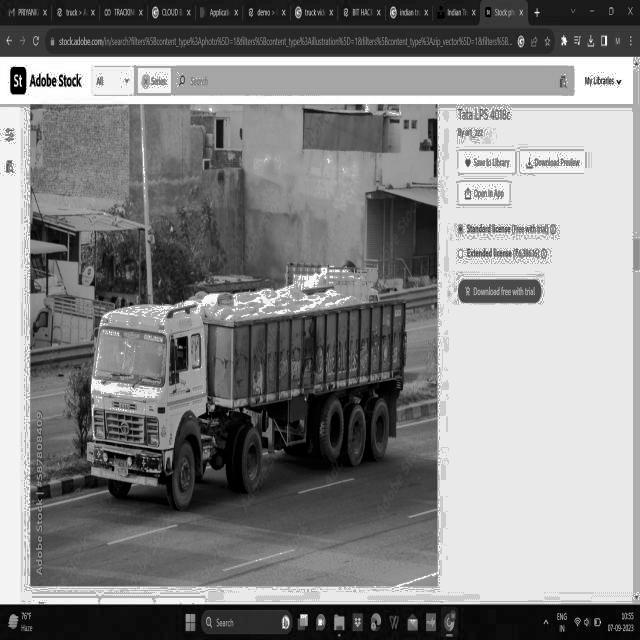HCV: (81, 248, 421, 526)
